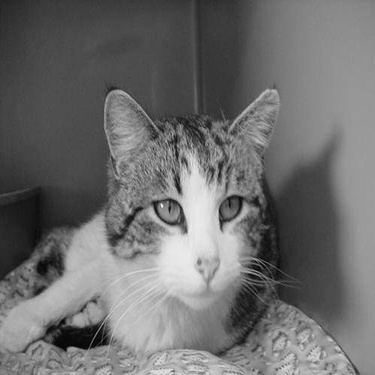cat: (7, 84, 278, 353)
